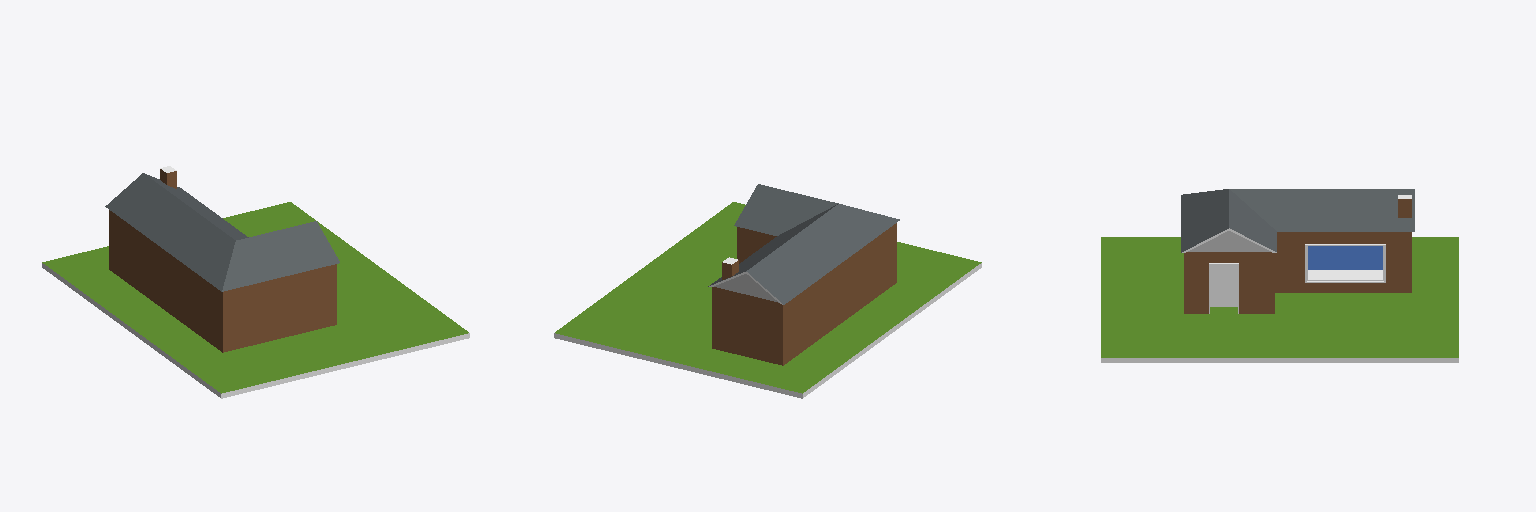
The model's file is simple_house.obj.
3 views of the same model, side by side, from view 1: azimuth 30°, elevation 25°; view 2: azimuth 150°, elevation 25°; view 3: azimuth 270°, elevation 25° (orthographic).
Parts seen in each view (by area): view 1: Mesh1 Model; view 2: Mesh1 Model; view 3: Mesh1 Model.
Boxes of the visible parts, x1,y1,x2,y2 form: Mesh1 Model: [42, 166, 469, 398]; Mesh1 Model: [554, 184, 981, 398]; Mesh1 Model: [1101, 189, 1458, 362].
Size of the model in its own units: 502 by 181 by 628.